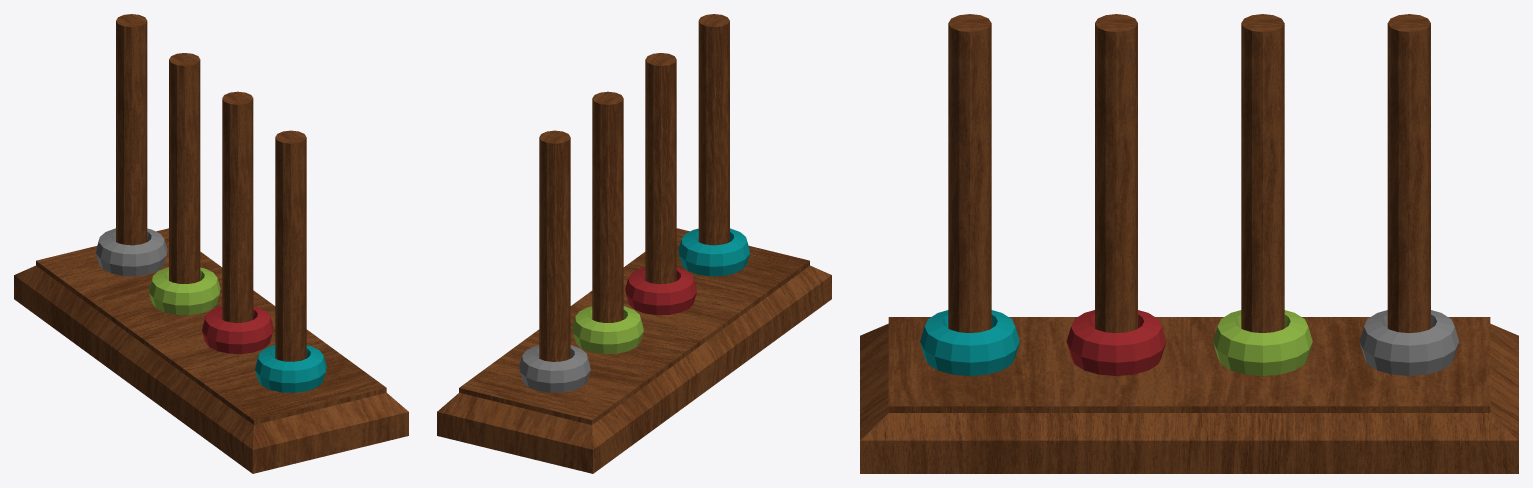
File: Abaco_II.fbx
3 renders of one model, left to right at view 1: azimuth 30°, elevation 25°; view 2: azimuth 150°, elevation 25°; view 3: azimuth 270°, elevation 25°, orthographic. The views are drawn at different scales.
Visible parts, largest first — view 1: Base, Varilla_Crecimiento, Varilla_Carnívoros, Varilla_Plantas, Varilla_Herbívoros, Ficha_Plantas, Ficha_Carnívoros, Ficha_Crecimiento, Ficha_Herbívoros; view 2: Base, Varilla_Plantas, Varilla_Carnívoros, Varilla_Crecimiento, Varilla_Herbívoros, Ficha_Crecimiento, Ficha_Carnívoros, Ficha_Herbívoros, Ficha_Plantas; view 3: Base, Varilla_Crecimiento, Varilla_Plantas, Varilla_Herbívoros, Varilla_Carnívoros, Ficha_Herbívoros, Ficha_Plantas, Ficha_Crecimiento, Ficha_Carnívoros.
Part boxes in pixels (left/top/right/bottom): Base: left=14, top=228, right=408, bottom=473; Varilla_Crecimiento: left=116, top=14, right=147, bottom=245; Varilla_Carnívoros: left=222, top=91, right=253, bottom=322; Varilla_Plantas: left=275, top=130, right=306, bottom=361; Varilla_Herbívoros: left=169, top=53, right=200, bottom=283; Ficha_Plantas: left=255, top=345, right=326, bottom=392; Ficha_Carnívoros: left=202, top=306, right=273, bottom=353; Ficha_Crecimiento: left=96, top=228, right=167, bottom=276; Ficha_Herbívoros: left=149, top=267, right=220, bottom=315; Base: left=437, top=228, right=831, bottom=473; Varilla_Plantas: left=698, top=14, right=729, bottom=245; Varilla_Carnívoros: left=645, top=53, right=676, bottom=284; Varilla_Crecimiento: left=539, top=130, right=570, bottom=361; Varilla_Herbívoros: left=592, top=91, right=623, bottom=322; Ficha_Crecimiento: left=519, top=345, right=590, bottom=392; Ficha_Carnívoros: left=625, top=267, right=696, bottom=315; Ficha_Herbívoros: left=572, top=306, right=643, bottom=353; Ficha_Plantas: left=678, top=228, right=749, bottom=276; Base: left=860, top=317, right=1518, bottom=473; Varilla_Crecimiento: left=1387, top=14, right=1430, bottom=333; Varilla_Plantas: left=948, top=14, right=991, bottom=332; Varilla_Herbívoros: left=1241, top=14, right=1284, bottom=332; Varilla_Carnívoros: left=1095, top=14, right=1137, bottom=332; Ficha_Herbívoros: left=1213, top=310, right=1312, bottom=375; Ficha_Plantas: left=920, top=310, right=1019, bottom=375; Ficha_Crecimiento: left=1359, top=310, right=1459, bottom=375; Ficha_Carnívoros: left=1066, top=310, right=1166, bottom=375.
Size of the model in its own units: 166 by 293 by 439.
